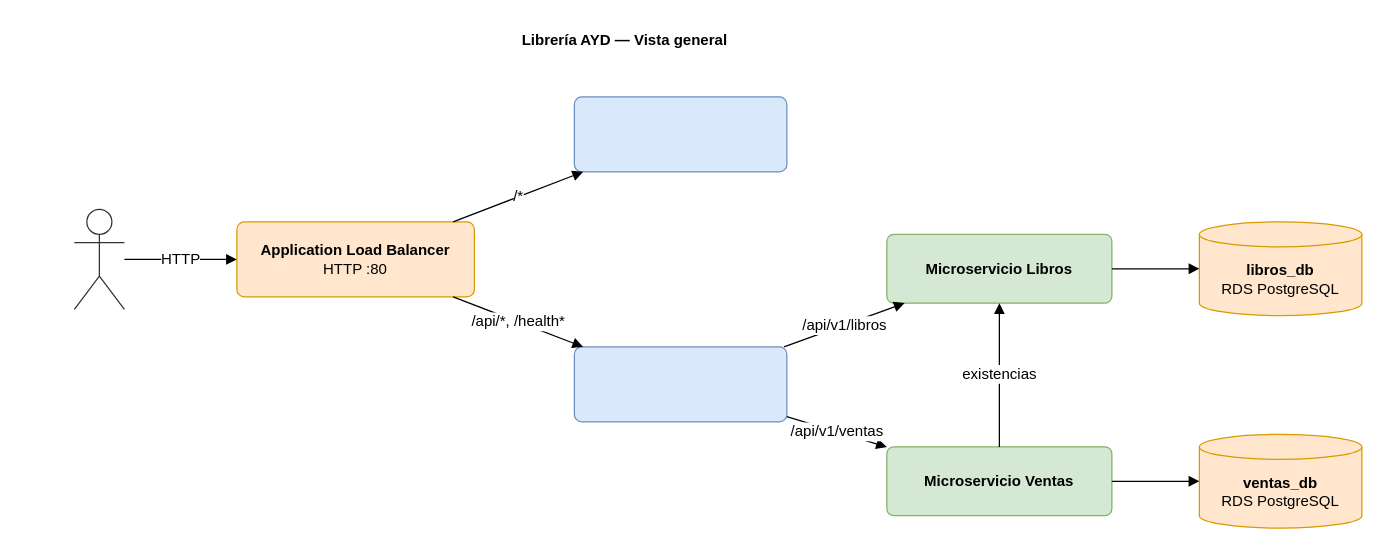
Some shapes in this 1384 by 550 pixel diagram are drawn without their labels. Here are the shapes that lost their labels. From the top down, the centre of each, then its label:
At point (680, 134): "Frontend Nginx + SPA".
At point (98, 258): "Usuario (cliente / administrador)".
At point (680, 384): "API Gateway Node.js".
